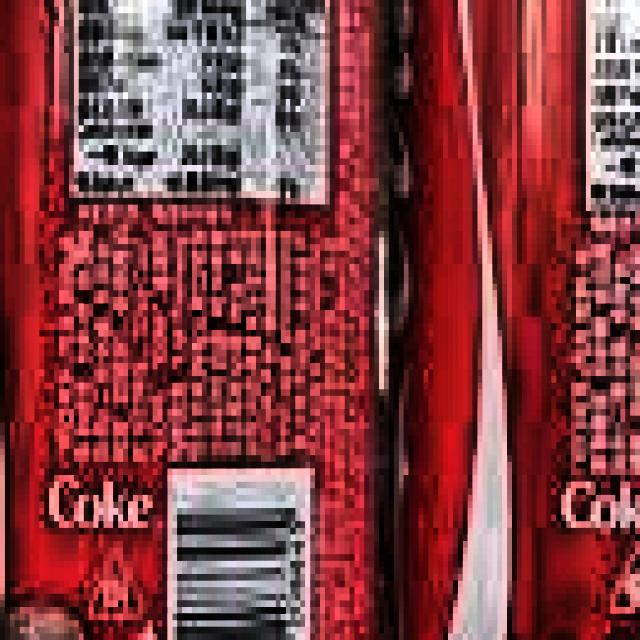metal: (0, 0, 394, 640), (384, 0, 640, 640)
